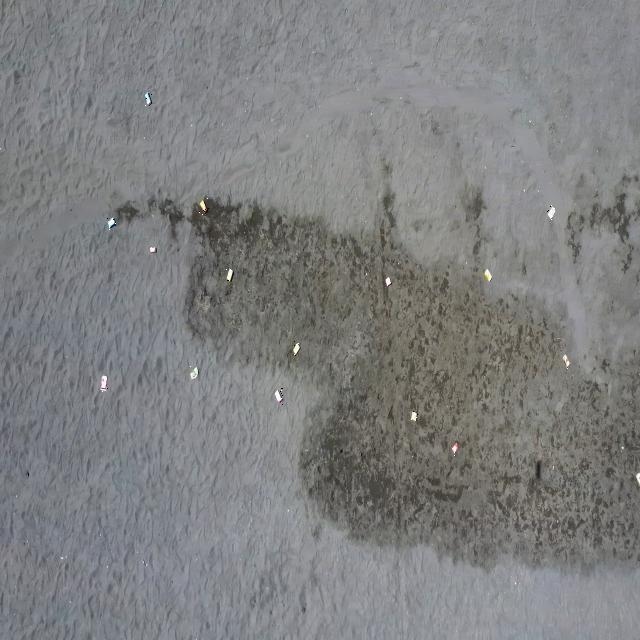Garbage: (273, 387, 283, 404), (547, 204, 555, 219), (100, 375, 107, 391), (107, 216, 116, 228), (452, 440, 459, 455), (190, 366, 198, 379), (535, 460, 540, 479), (199, 199, 206, 212), (144, 91, 150, 104), (226, 268, 232, 281), (484, 268, 491, 279), (292, 344, 299, 355), (384, 276, 391, 286), (563, 354, 567, 367), (409, 412, 415, 420), (148, 246, 156, 252), (635, 472, 639, 483)
